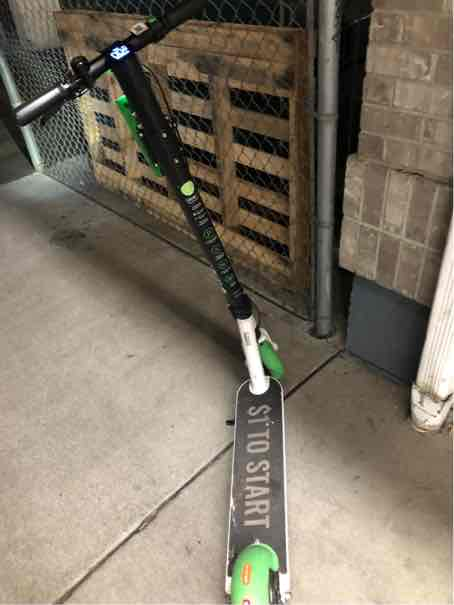scooter: (9, 15, 262, 605)
